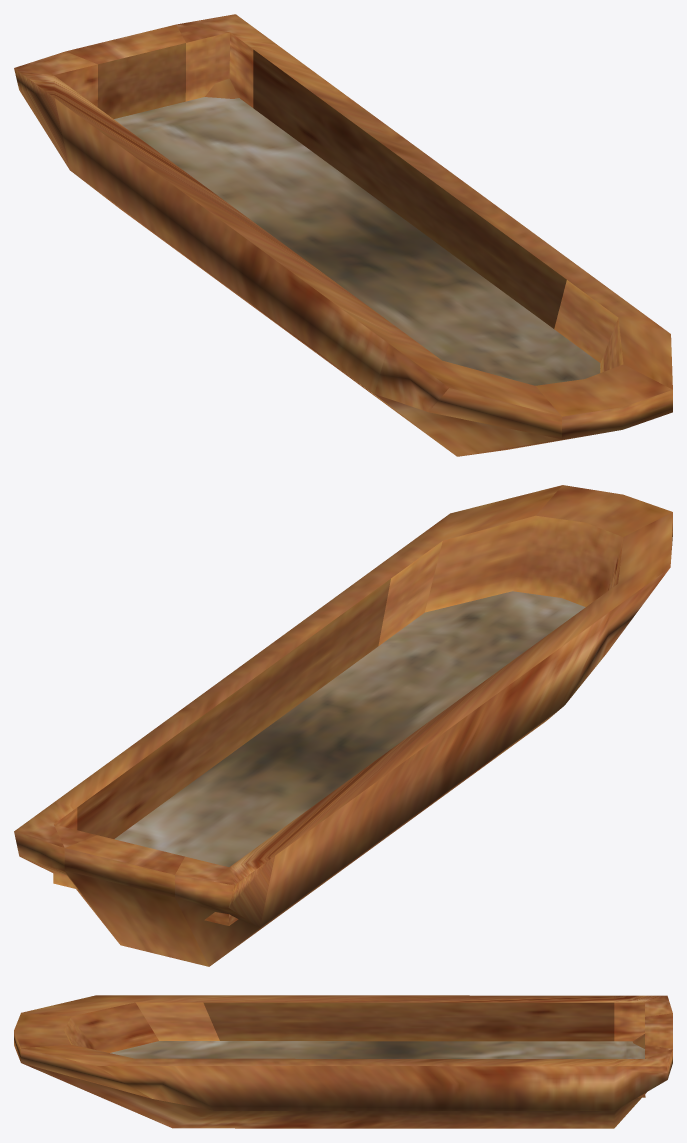
The model's file is canoe_03_02.dae.
3 renders of one model, top to bottom at view 1: azimuth 30°, elevation 25°; view 2: azimuth 150°, elevation 25°; view 3: azimuth 270°, elevation 25°, orthographic. The views are drawn at different scales.
Visible parts, largest first — view 1: canoe_03_02; view 2: canoe_03_02; view 3: canoe_03_02.
Boxes of the visible parts, left/top/right/bottom form: canoe_03_02: left=14, top=14, right=672, bottom=456; canoe_03_02: left=14, top=485, right=672, bottom=966; canoe_03_02: left=14, top=995, right=672, bottom=1128.
Size of the model in its own units: 2.35 by 9.22 by 1.29.
